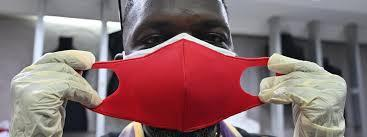Wore Mask Incorrectly: (73, 1, 281, 133)
